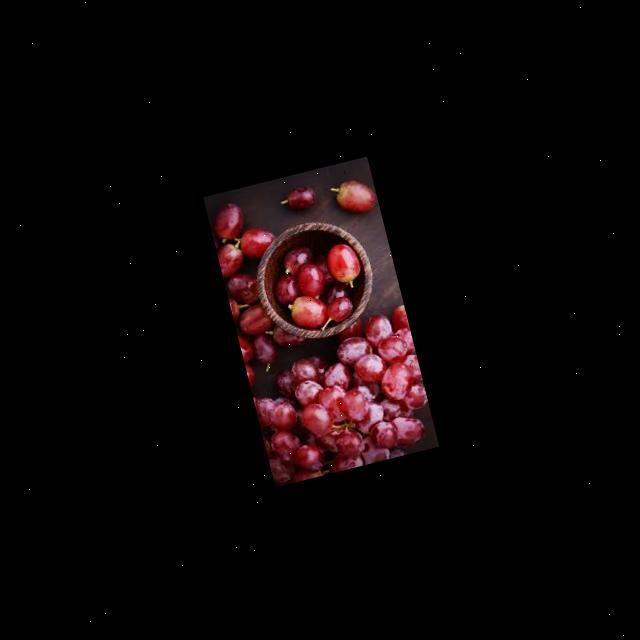grape: (245, 312, 438, 484), (268, 226, 366, 328)
